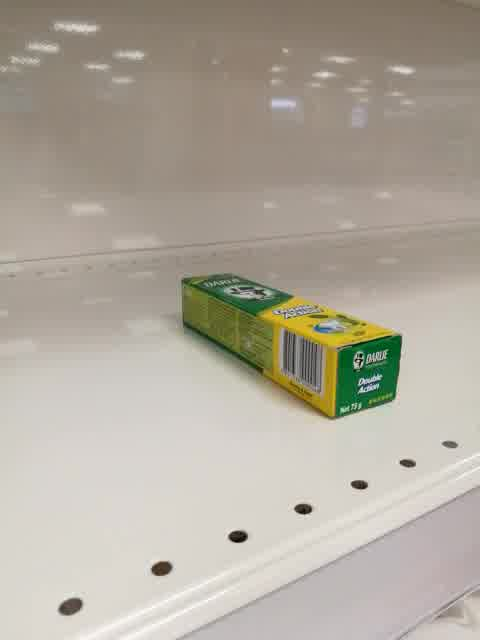toothpaste: (181, 274, 402, 421)
